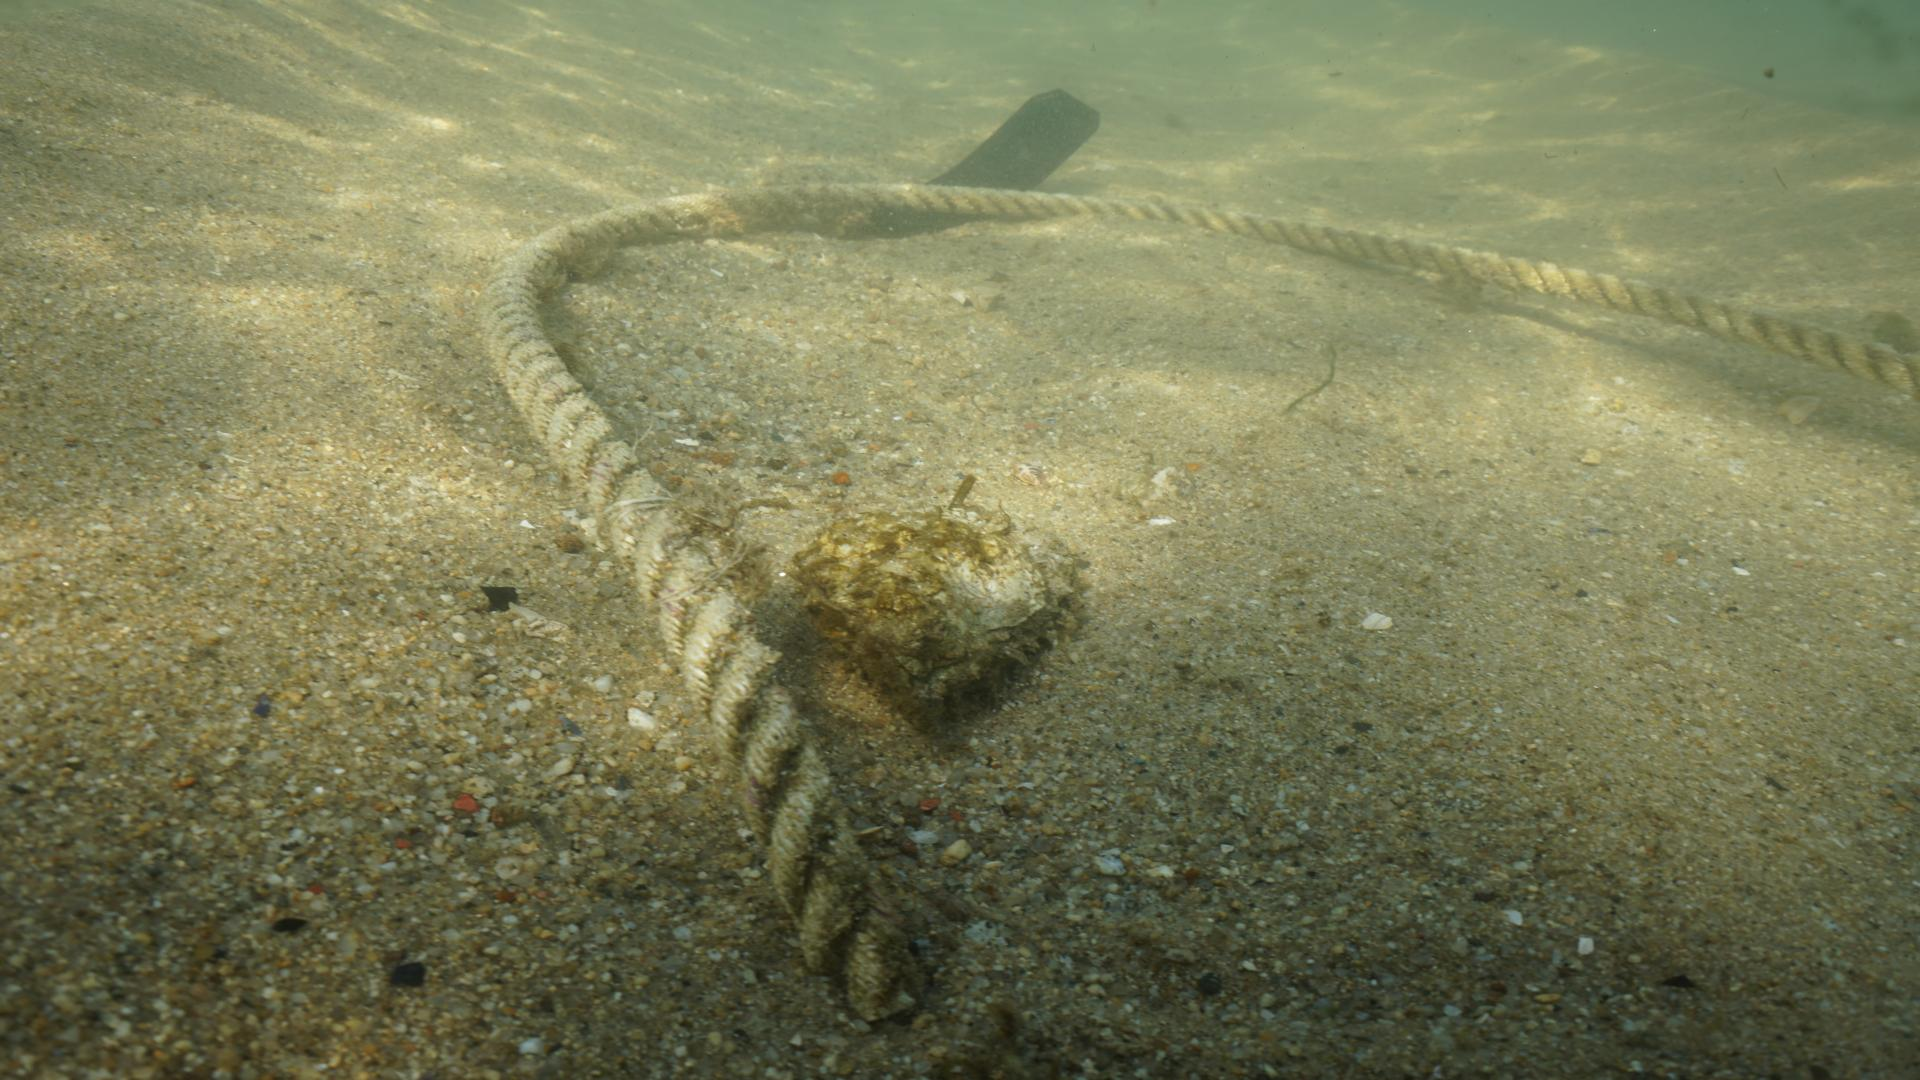rope: (473, 175, 1920, 1026)
